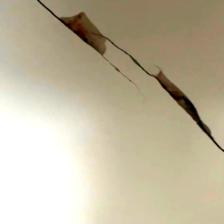Medium: (45, 4, 215, 141)
